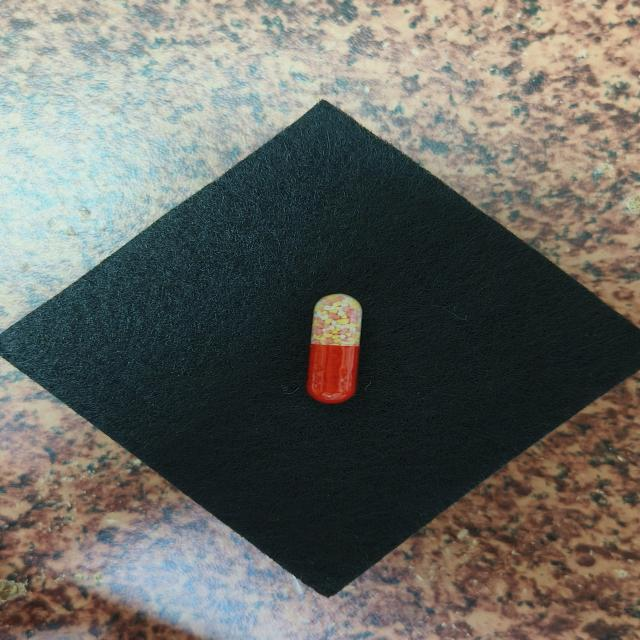Intact Capsule: (306, 293, 363, 404)
